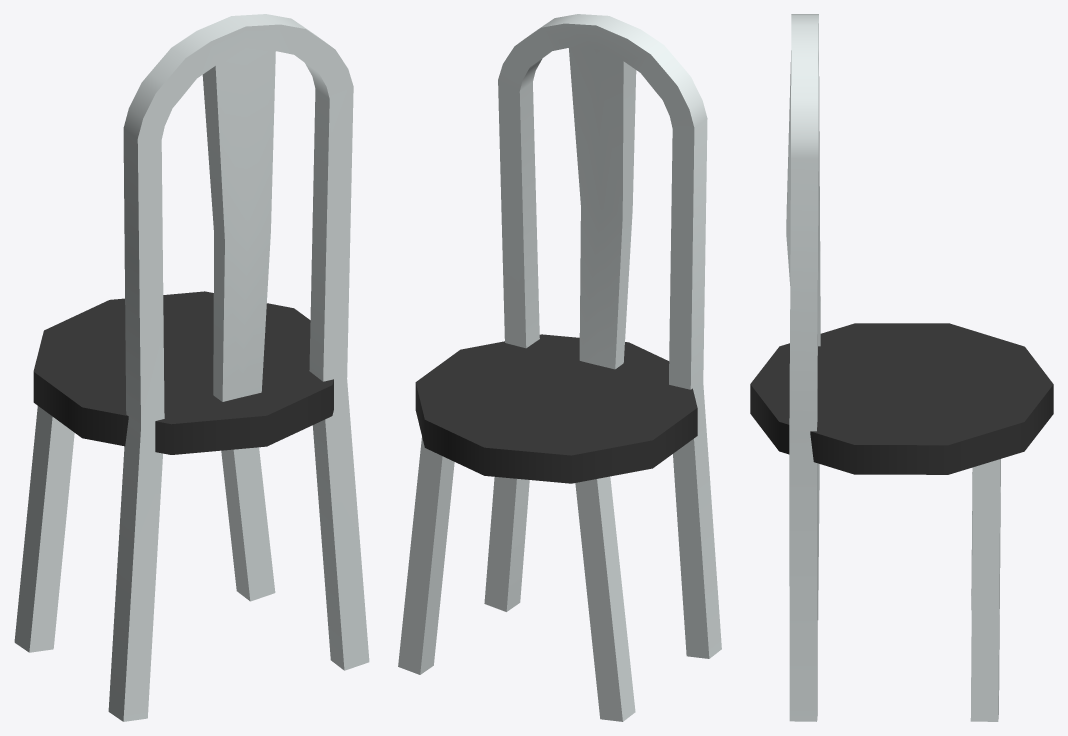
File: Chair_COFFEROOM.fbx
The picture shows the model from 3 angles, left to right: view 1: azimuth 30°, elevation 25°; view 2: azimuth 150°, elevation 25°; view 3: azimuth 270°, elevation 25°; orthographic projection. The views are drawn at different scales.
Visible parts, largest first — view 1: Chair.005; view 2: Chair.005; view 3: Chair.005.
Part boxes in pixels (x1,y1,x2,y2): Chair.005: (14, 14, 369, 721); Chair.005: (398, 14, 721, 721); Chair.005: (750, 14, 1053, 721).
Bounding box in the file's own units: 0.4977 × 1.22 × 0.523.
